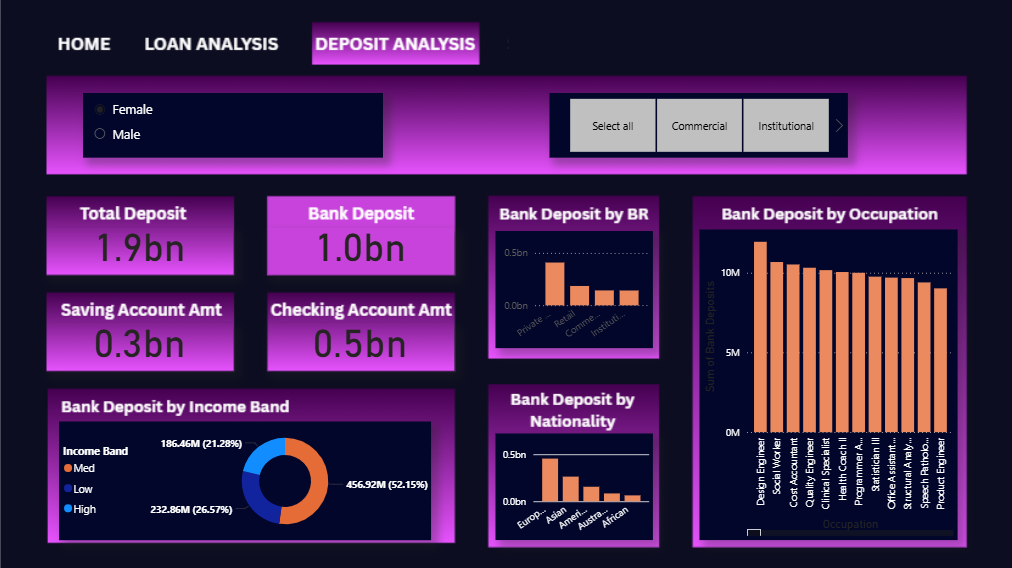

The page's visual inventory and layout, read from the dashboard file:
{"tool":"powerbi","page":{"name":"Deposit Analysis","canvas":[1280,720],"ordinal":2},"visuals":[{"type":"card","fields":{"Values":["banking-clients.TOTAL Deposit"]},"box":[58.5,286.8,235.8,58.5],"z":0},{"type":"card","fields":{"Values":["Sum(banking-clients.Checking Accounts)"]},"box":[335.8,407.5,235.8,58.5],"z":1000},{"type":"card","fields":{"Values":["Sum(banking-clients.Saving Accounts)"]},"box":[58.5,407.5,235.8,58.5],"z":2000},{"type":"card","fields":{"Values":["Sum(banking-clients.Bank Deposits)"]},"box":[335.8,286.8,235.8,58.5],"z":3000},{"type":"donutChart","fields":{"Category":["banking-clients.Income Band"],"Y":["Sum(banking-clients.Bank Loans)"]},"box":[75.5,530.2,467.9,149.1],"z":4000},{"type":"clusteredColumnChart","fields":{"Category":["banking-clients.Nationality"],"Y":["Sum(banking-clients.Bank Deposits)"]},"box":[624.5,545.3,198.1,134],"z":5000},{"type":"clusteredColumnChart","fields":{"Category":["banking-clients.Occupation"],"Y":["Sum(banking-clients.Bank Deposits)"]},"box":[881.1,288.7,324.5,390.6],"z":6000},{"type":"clusteredColumnChart","fields":{"Category":["banking-clients.BRId"],"Y":["Sum(banking-clients.Bank Loans)"]},"box":[624.5,290.6,198.1,147.2],"z":7000},{"type":"slicer","fields":{"Values":["banking-clients.GenderId"]},"box":[105.7,117,377.4,81.1],"z":8000},{"type":"slicer","fields":{"Values":["banking-clients.BRId"]},"box":[692.5,117,375.5,81.1],"z":9000},{"type":"image","box":[535.8,0,377.4,88.7],"z":9001},{"type":"actionButton","box":[58.5,24.5,98.1,64.2],"z":9002},{"type":"actionButton","box":[177.4,24.5,184.9,62.3],"z":9003}]}

Visuals, with their boxes in screenshot pixels (x1, y1, x2, y2), scaled from the page's 1280x720 canvas onto the 1012x568 screenshot:
card - banking-clients.TOTAL Deposit: 46 226 233 272
card - Sum(banking-clients.Checking Accounts): 265 321 452 368
card - Sum(banking-clients.Saving Accounts): 46 321 233 368
card - Sum(banking-clients.Bank Deposits): 265 226 452 272
donutChart - banking-clients.Income Band x Sum(banking-clients.Bank Loans): 60 418 430 536
clusteredColumnChart - banking-clients.Nationality x Sum(banking-clients.Bank Deposits): 494 430 650 536
clusteredColumnChart - banking-clients.Occupation x Sum(banking-clients.Bank Deposits): 697 228 953 536
clusteredColumnChart - banking-clients.BRId x Sum(banking-clients.Bank Loans): 494 229 650 345
slicer - banking-clients.GenderId: 84 92 382 156
slicer - banking-clients.BRId: 548 92 844 156
image: 424 0 722 70
actionButton: 46 19 124 70
actionButton: 140 19 286 68
